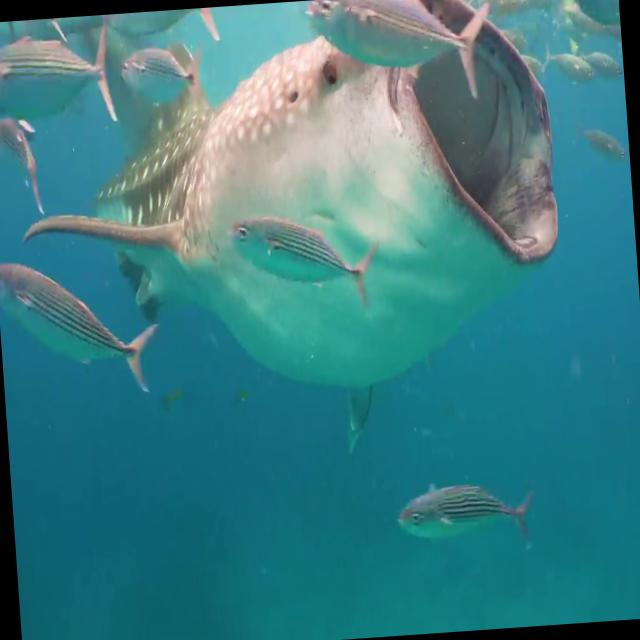fish: (80, 0, 565, 411), (0, 242, 145, 393), (301, 0, 494, 99), (392, 478, 528, 558), (0, 32, 114, 126), (112, 48, 202, 104)
